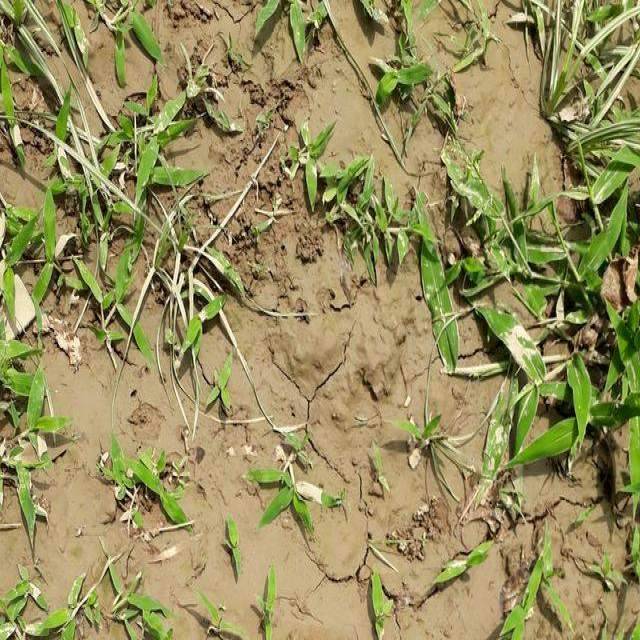weed: (0, 0, 260, 368), (293, 120, 640, 342), (475, 372, 640, 584)
